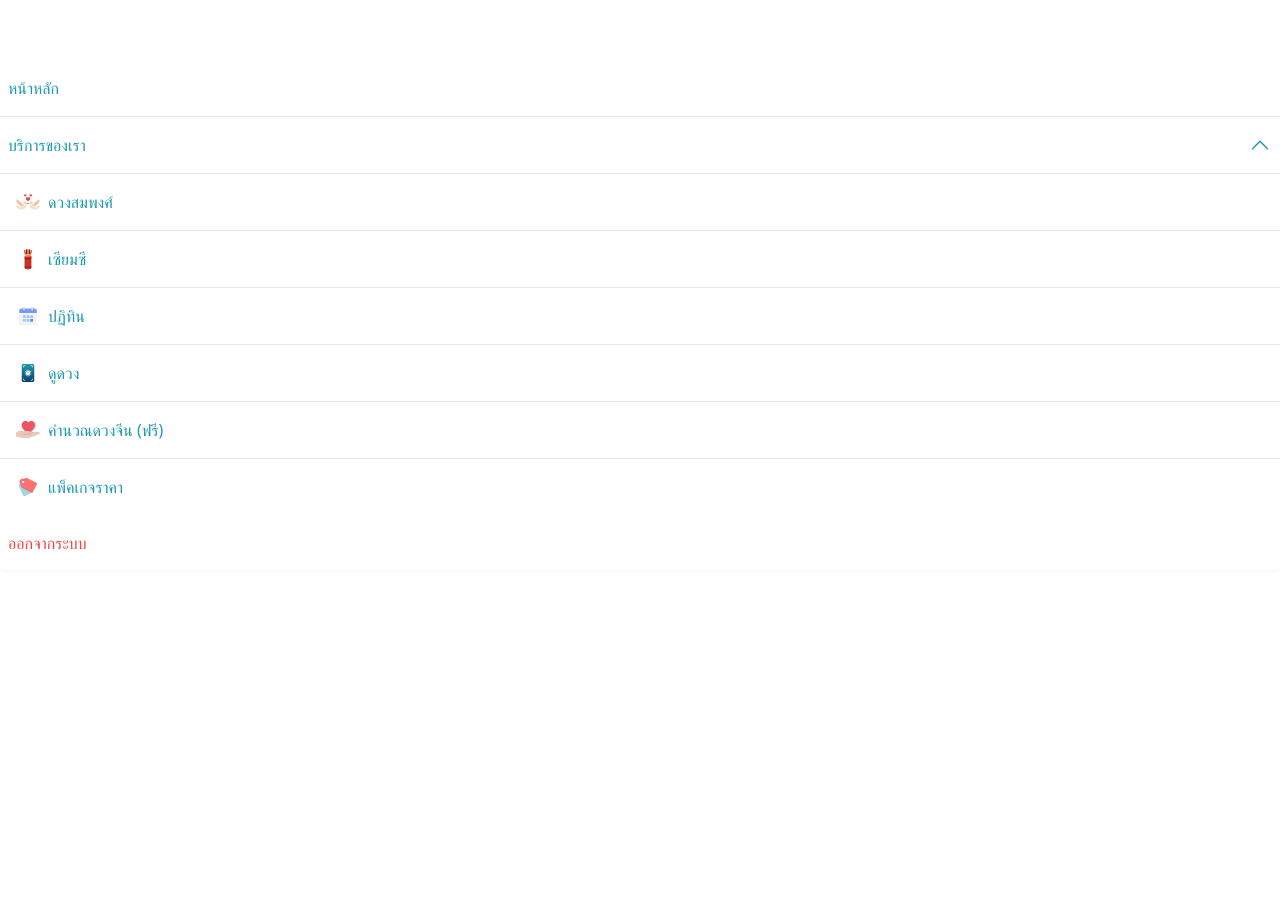
Test: #427 · คำตอบต้องผูกกับแถวที่กด ไม่ใช่โผล่ทุกแถวพร้อมกัน › กด "ดูดวง" แล้วคำตอบของ "แพ็คเกจราคา" ต้องไม่โผล่ด้วย
Click the element with test id "menu-horoscope" at (640, 374), box 0,345 -> 1279,402
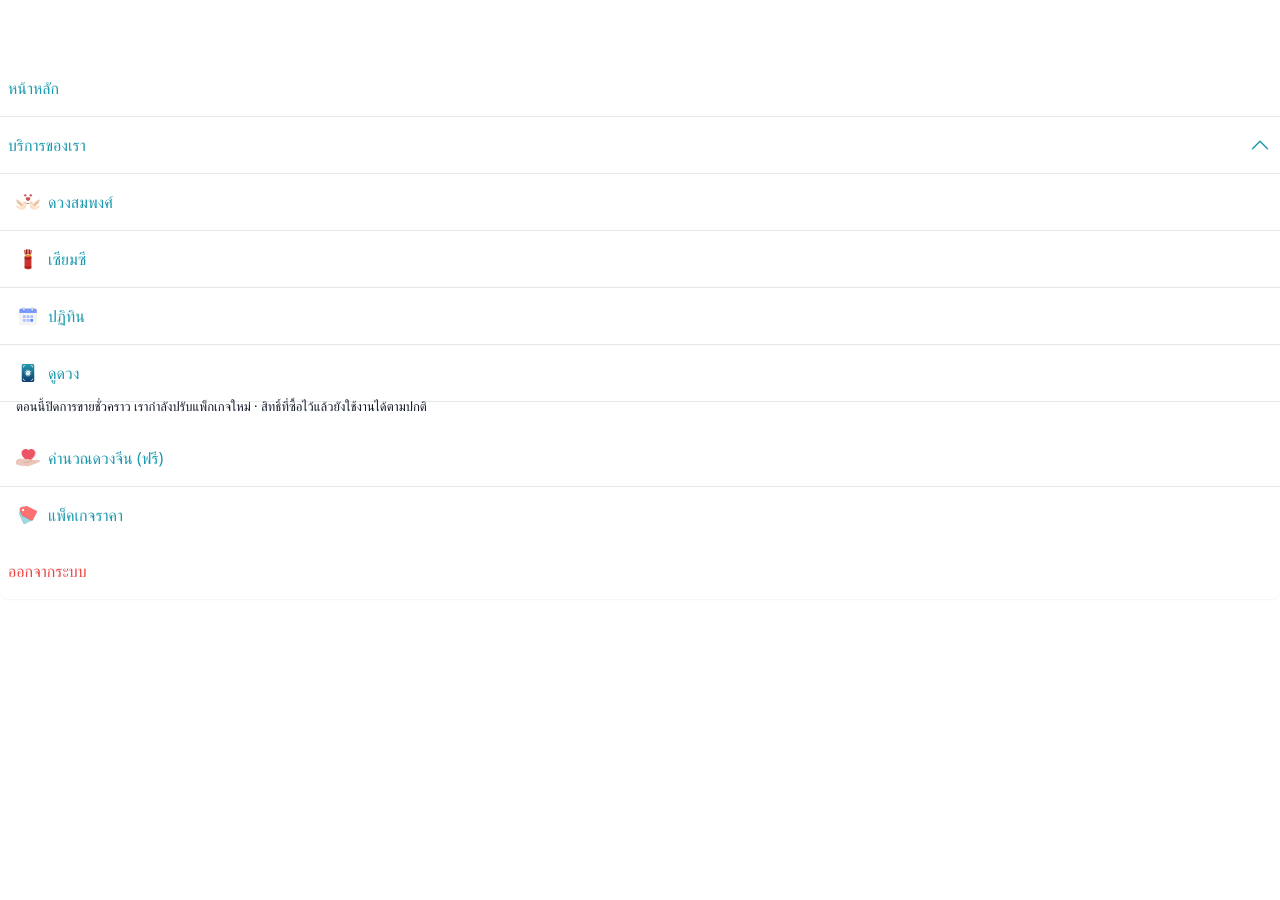
Result: the message with test id "menu-horoscope-notice" is shown at 16,397 -> 427,415
